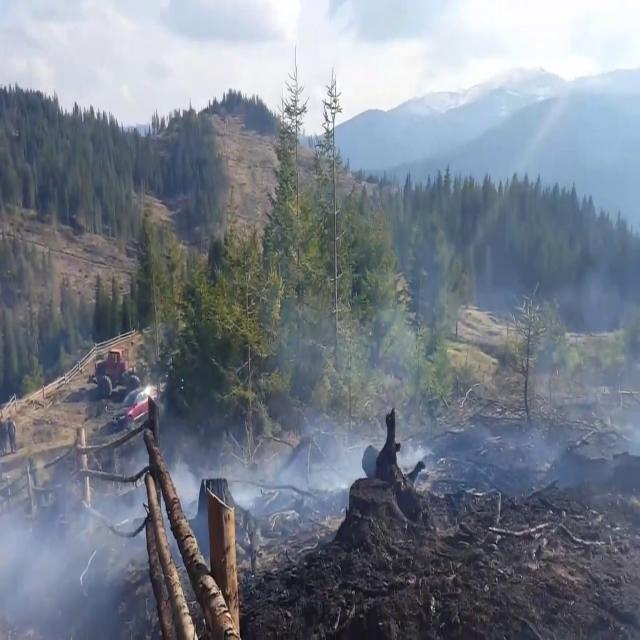Smoke: (228, 294, 438, 569), (0, 446, 150, 632), (568, 207, 640, 469)
